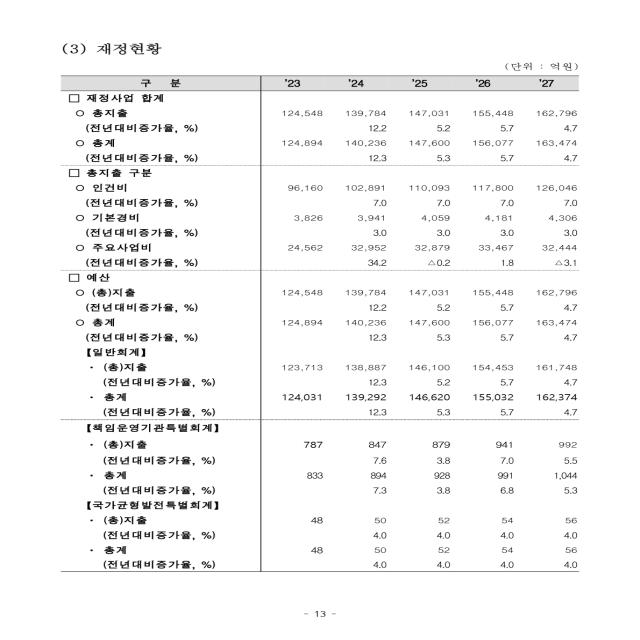subtitle: (58, 39, 169, 57)
table: (58, 73, 592, 577)
text: (502, 61, 585, 72)
